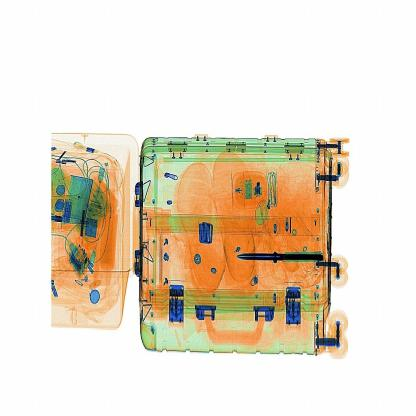gun: (228, 242, 328, 270)
